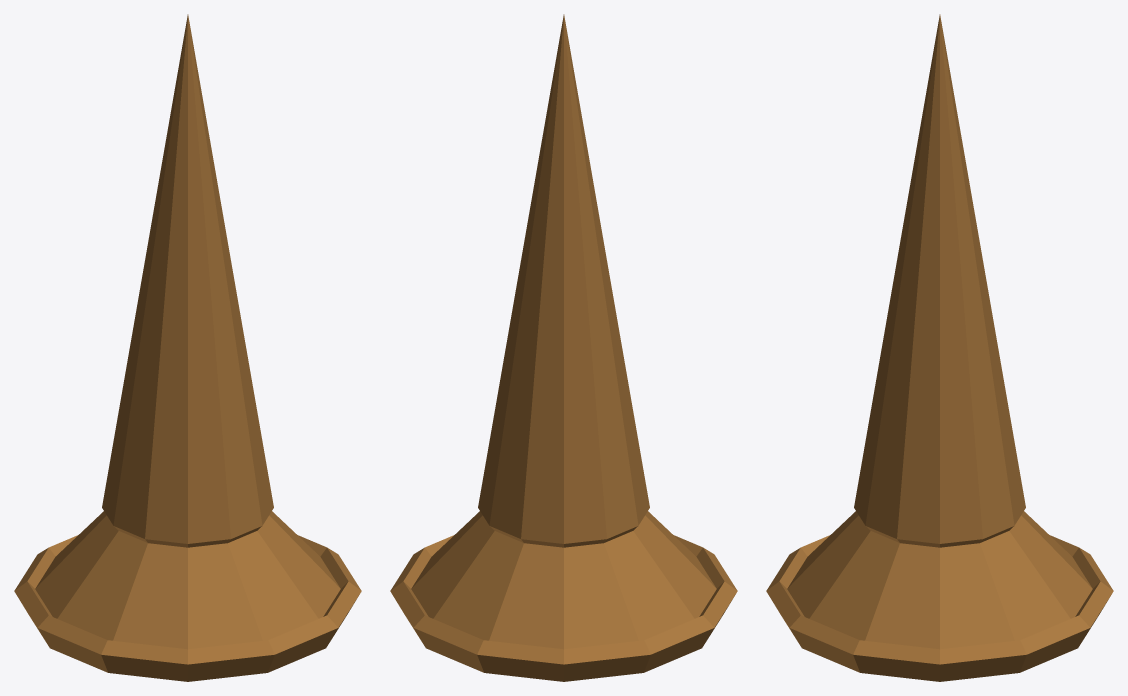
Rendered from spires.fbx.
3 renders of one model, left to right at view 1: azimuth 30°, elevation 25°; view 2: azimuth 150°, elevation 25°; view 3: azimuth 270°, elevation 25°, orthographic.
Parts seen in each view (by area): view 1: spires; view 2: spires; view 3: spires.
Boxes of the visible parts, x1=… form: spires: x1=14, y1=14, x2=361, y2=681; spires: x1=390, y1=14, x2=737, y2=681; spires: x1=766, y1=14, x2=1113, y2=681.
Size of the model in its own units: 284 by 541 by 284.
